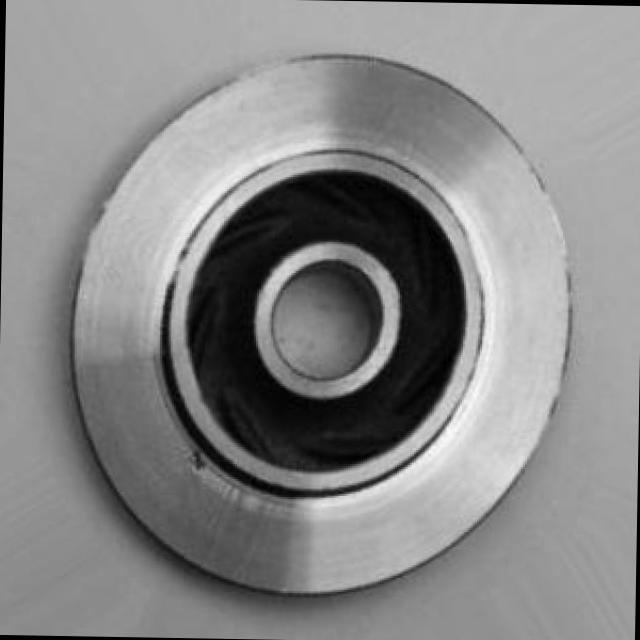Defect: (187, 445, 210, 478)
